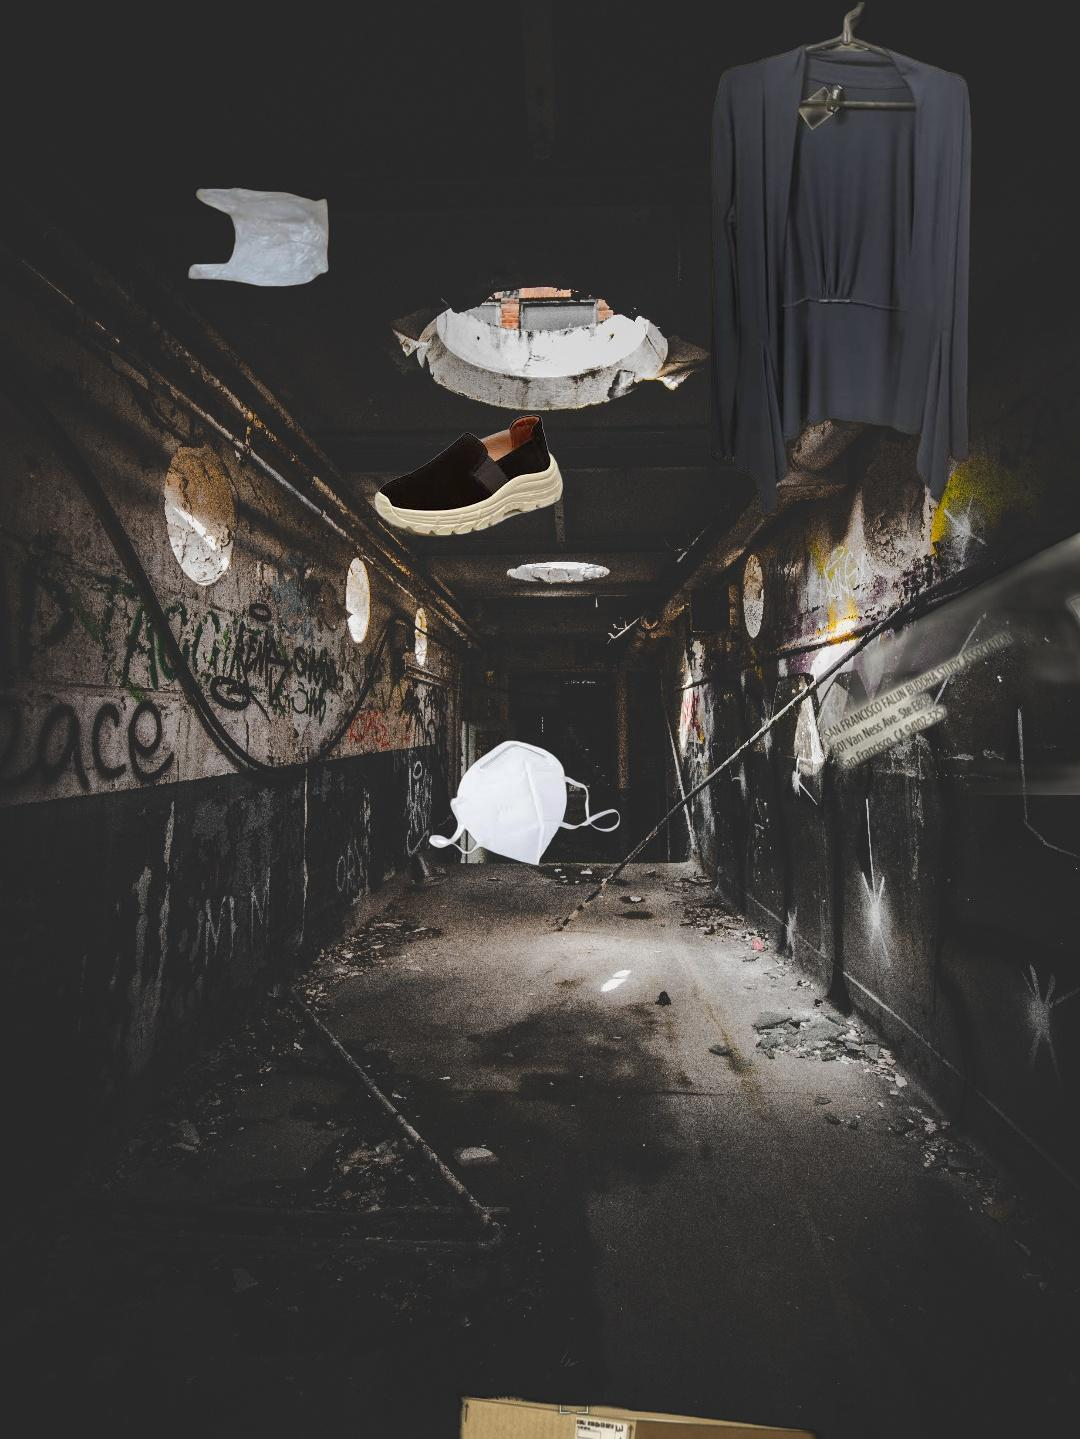clothes: (707, 2, 974, 520)
paper: (816, 496, 1080, 795)
plastic-bag: (185, 185, 332, 290)
shoes: (369, 412, 566, 540)
trash: (427, 737, 623, 867)
trashbox-cardboard: (378, 1284, 866, 1439)
